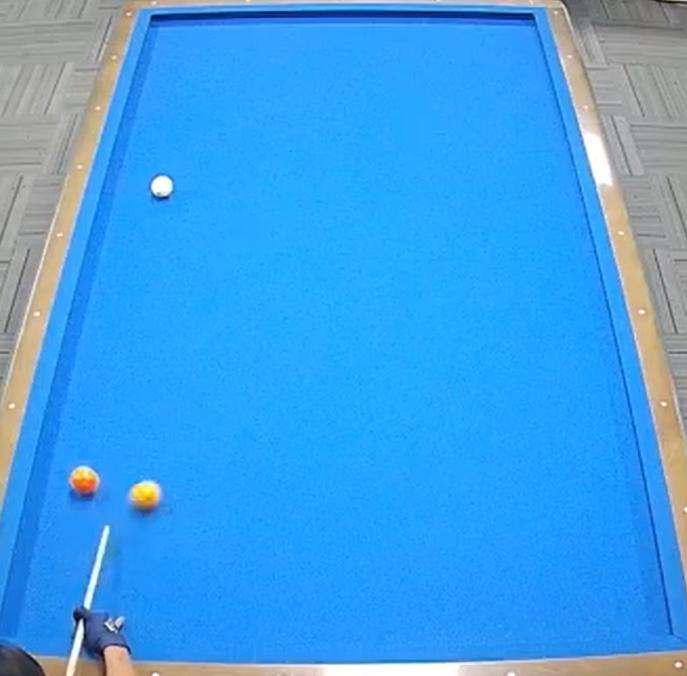orange ball: (67, 462, 103, 503)
white ball: (141, 173, 181, 206)
yellow ball: (123, 477, 170, 521)
